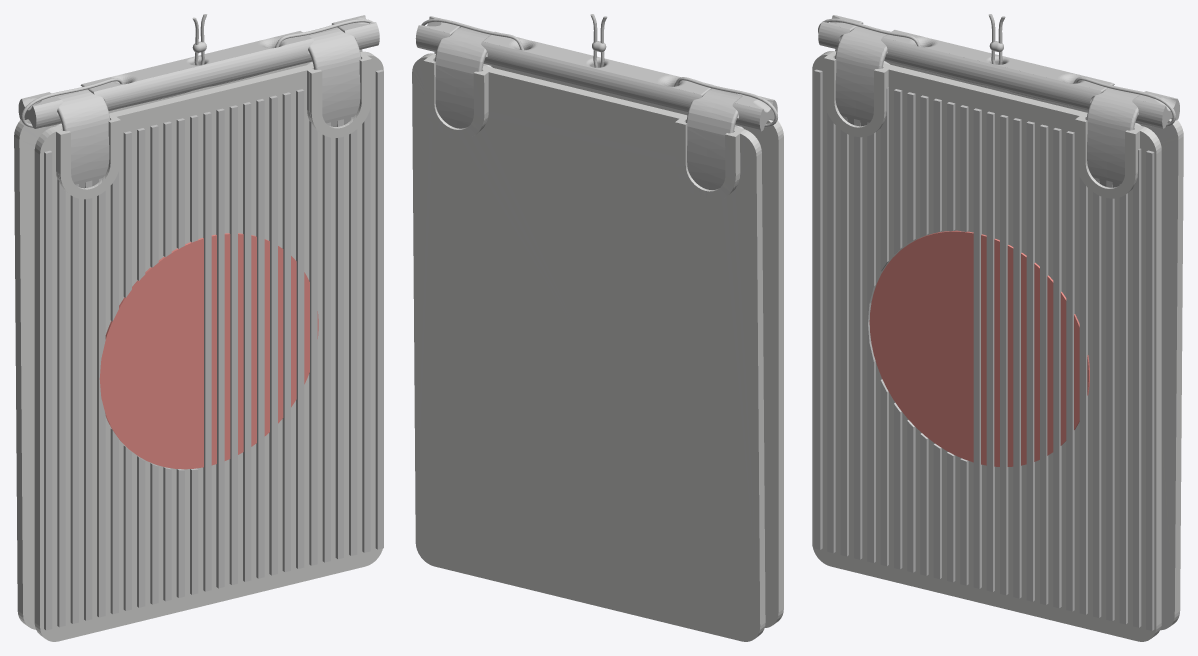
Rendered from tascabile_v1.glb.
The picture shows the model from 3 angles, left to right: view 1: azimuth 30°, elevation 25°; view 2: azimuth 150°, elevation 25°; view 3: azimuth 330°, elevation 25°; orthographic projection.
Visible parts, largest first — view 1: Body1, Body41, Body1.002, Body1.001, Body4 (1), Body13, Body22, Body23, Body6, Body11 (1), Body27, Body7 (+37 smaller); view 2: Body1.002, Body1, Body1.001, Body8, Body4, Body10, Body9; view 3: Body1, Body41, Body1.002, Body1.001, Body13, Body4 (1), Body10 (1), Body27, Body22, Body6, Body29, Body11 (1) (+37 smaller).
Boxes of the visible parts, bbox=[...] form: Body1: bbox=[34, 51, 383, 641]; Body41: bbox=[99, 237, 203, 469]; Body1.002: bbox=[14, 49, 362, 629]; Body1.001: bbox=[18, 15, 379, 128]; Body4 (1): bbox=[44, 150, 52, 630]; Body13: bbox=[375, 69, 383, 549]; Body22: bbox=[296, 89, 304, 568]; Body23: bbox=[243, 102, 251, 581]; Body6: bbox=[282, 92, 290, 572]; Body11 (1): bbox=[269, 95, 277, 575]; Body27: bbox=[256, 99, 264, 578]; Body7: bbox=[229, 105, 237, 584]; Body1.002: bbox=[412, 53, 765, 641]; Body1: bbox=[434, 52, 783, 627]; Body1.001: bbox=[415, 16, 777, 131]; Body8: bbox=[686, 88, 743, 189]; Body4: bbox=[435, 27, 492, 128]; Body10: bbox=[600, 16, 777, 127]; Body9: bbox=[421, 14, 597, 67]; Body1: bbox=[812, 51, 1161, 641]; Body41: bbox=[869, 230, 973, 462]; Body1.002: bbox=[835, 49, 1183, 630]; Body1.001: bbox=[818, 15, 1179, 128]; Body13: bbox=[1146, 150, 1154, 630]; Body4 (1): bbox=[814, 69, 822, 549]; Body10 (1): bbox=[986, 111, 994, 591]; Body27: bbox=[1026, 121, 1034, 601]; Body22: bbox=[1066, 131, 1074, 611]; Body6: bbox=[1053, 128, 1061, 608]; Body29: bbox=[1133, 148, 1141, 627]; Body11 (1): bbox=[1040, 124, 1048, 604].
Bounding box in the file's own units: 0.0768 × 0.1192 × 0.0134.
